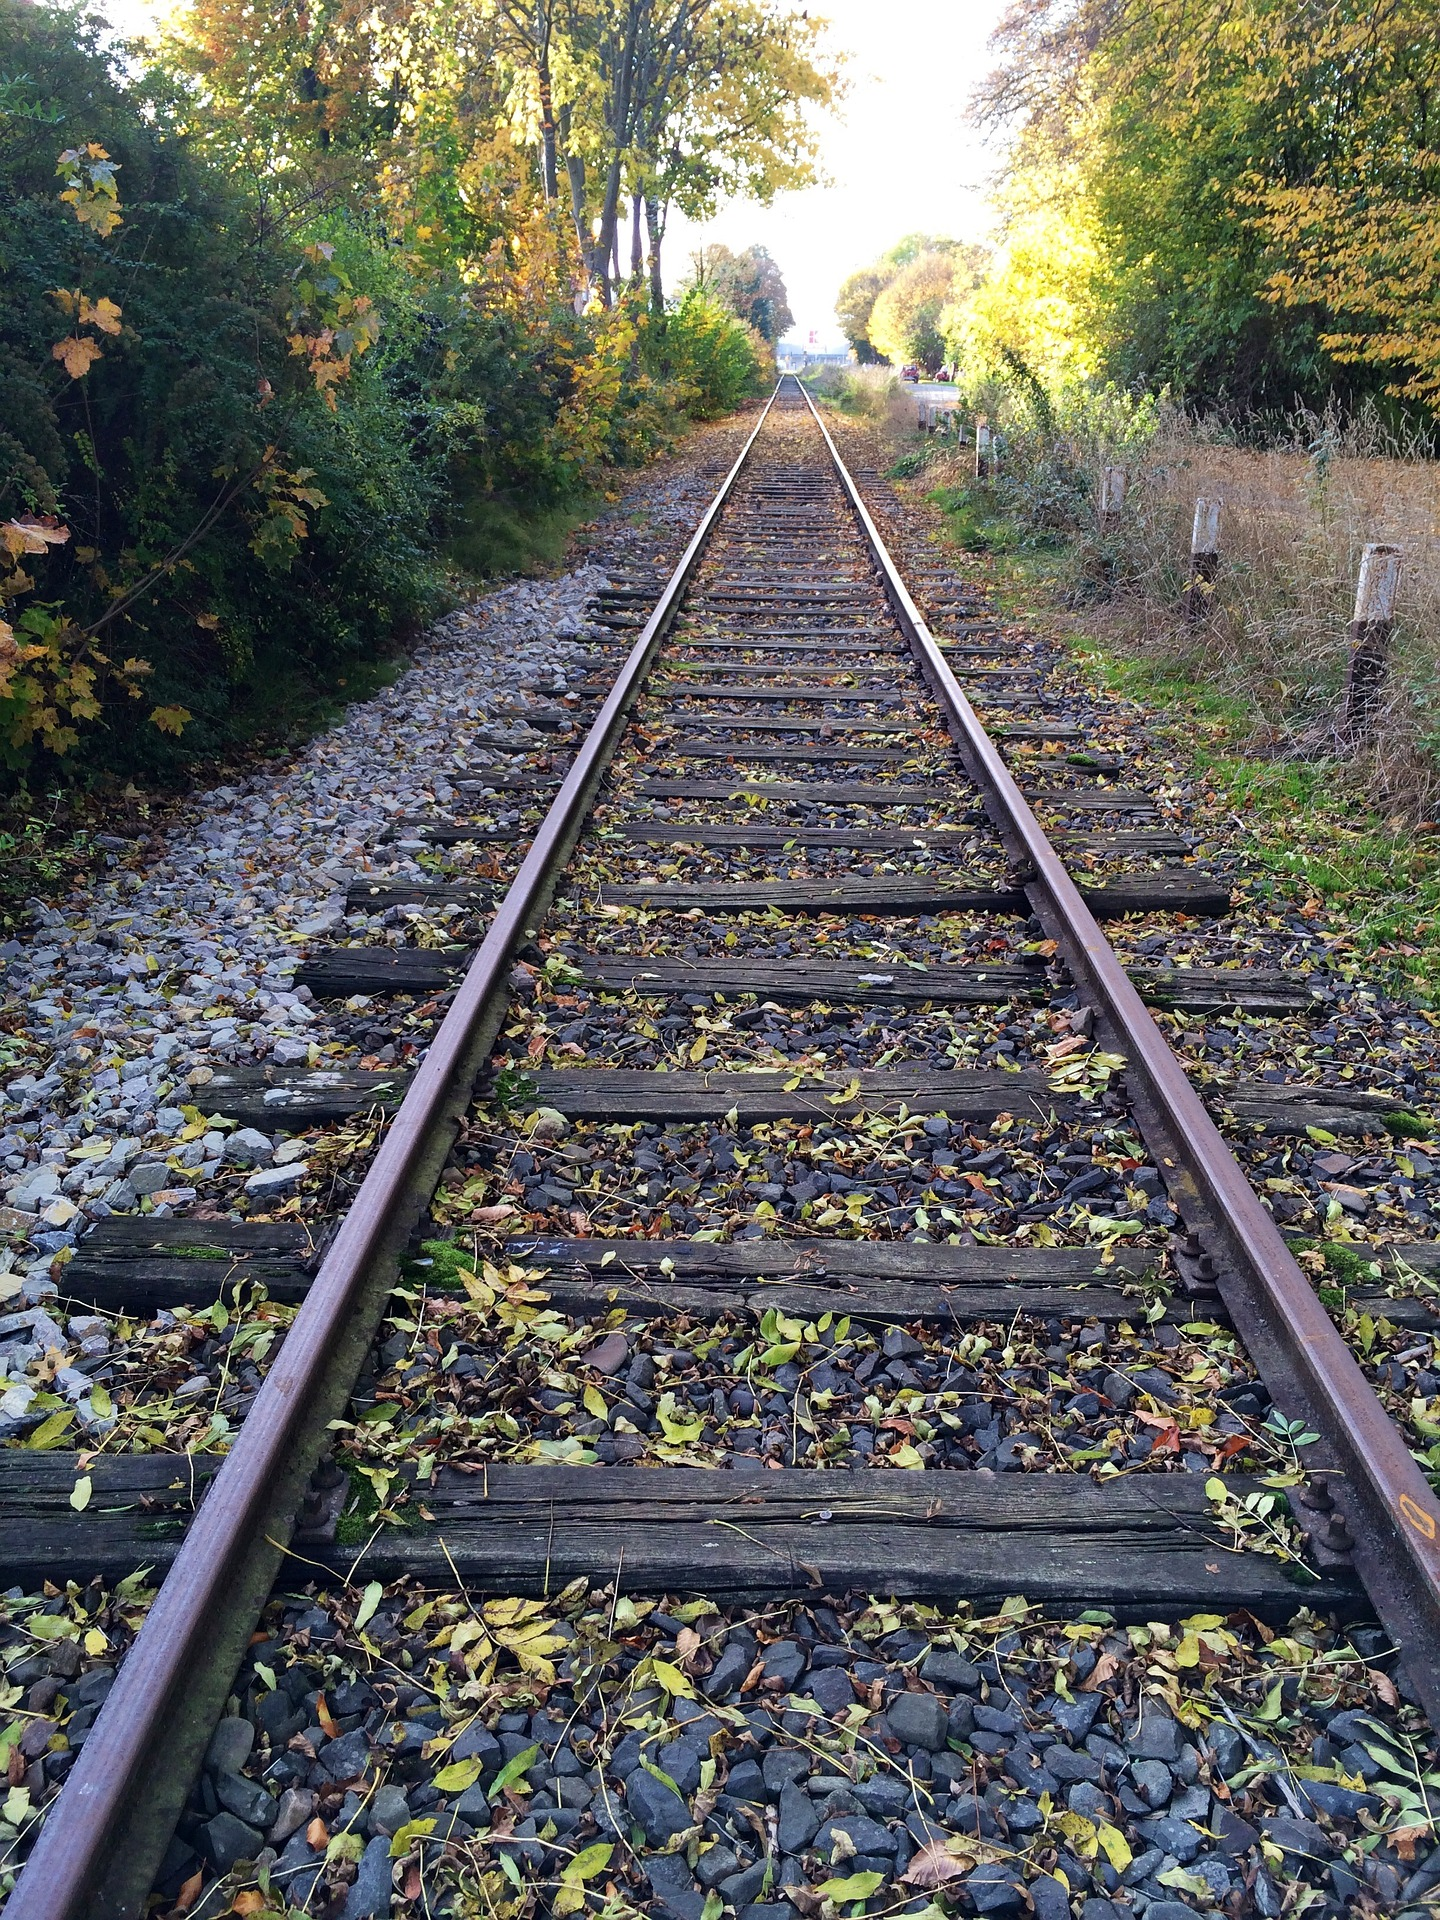voie1: (38, 375, 1419, 1869)
